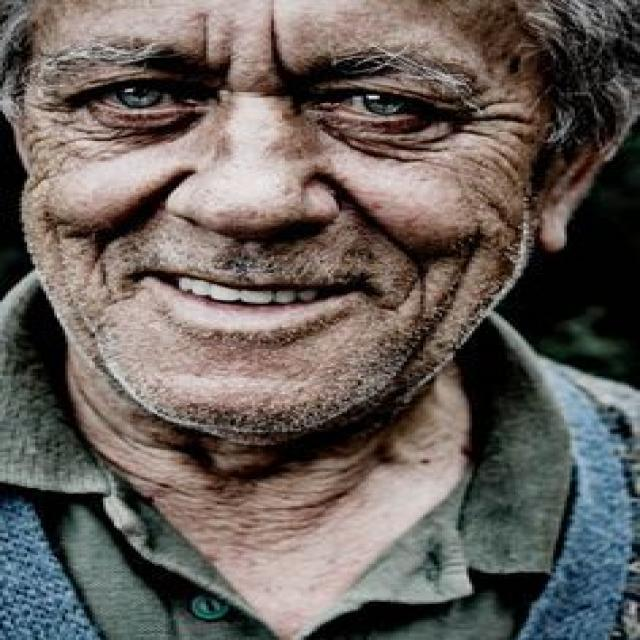earlobe: (538, 197, 572, 252)
eye: (330, 86, 427, 118), (91, 79, 183, 110)
nose: (164, 215, 326, 271)
wholeear: (539, 91, 635, 252)
